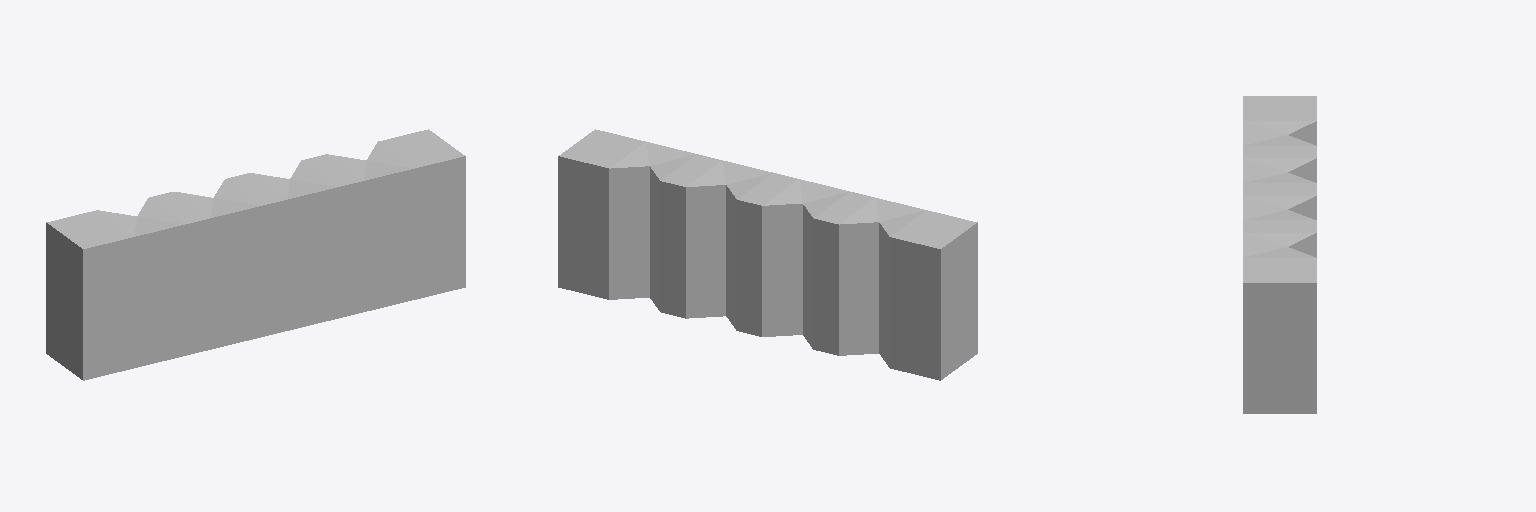
File: right_gripper_finger_link_collisions_mesh.obj
3 views of the same model, side by side, from view 1: azimuth 30°, elevation 25°; view 2: azimuth 150°, elevation 25°; view 3: azimuth 270°, elevation 25° (orthographic).
Bounding box in the file's own units: 0.15 × 0.05 × 0.025.